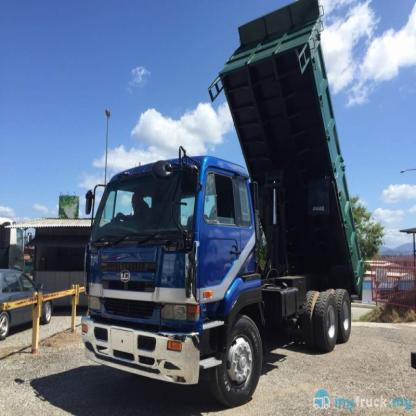dump_truck: (87, 11, 353, 402)
